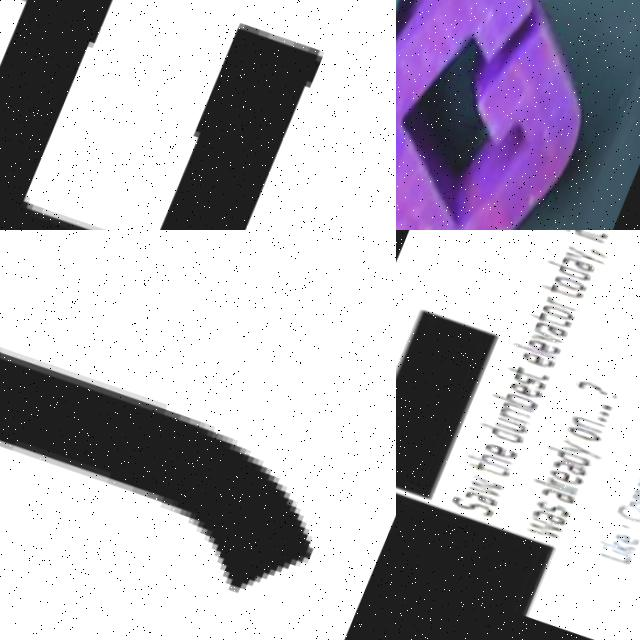A: (551, 457, 596, 482), (541, 484, 583, 510), (536, 507, 574, 531), (466, 488, 503, 512), (534, 319, 571, 342), (562, 255, 599, 276)
B: (492, 385, 545, 415)
C: (612, 501, 640, 529)
D: (396, 0, 451, 230), (545, 258, 597, 286), (481, 420, 529, 449), (548, 444, 597, 472)
E: (510, 379, 548, 403), (528, 336, 566, 360), (552, 467, 590, 491), (522, 350, 560, 373), (486, 440, 523, 463), (617, 531, 640, 551)
F: (0, 0, 396, 230)
G: (396, 0, 640, 230)
H: (468, 445, 517, 474)
I: (563, 230, 606, 246), (604, 546, 639, 562)
J: (0, 270, 358, 640)
K: (603, 536, 640, 557)
L: (514, 341, 560, 363), (539, 478, 582, 499), (601, 549, 638, 569)
M: (499, 399, 538, 428), (633, 488, 640, 510)
N: (574, 416, 611, 437)
O: (568, 422, 607, 447), (553, 273, 591, 297), (542, 302, 579, 326), (629, 498, 640, 519)
R: (549, 475, 585, 496), (544, 295, 581, 315)
S: (453, 493, 502, 522), (538, 498, 576, 522), (513, 371, 550, 393)
T: (505, 360, 557, 387), (540, 278, 588, 307), (466, 455, 515, 483), (528, 307, 577, 334), (563, 230, 611, 243)
U: (497, 414, 533, 438)
V: (532, 327, 570, 350)
W: (528, 514, 570, 544), (470, 473, 510, 501)
Y: (561, 437, 610, 466), (564, 244, 610, 271)
